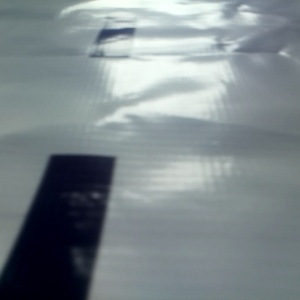bottom_left: (67, 109, 186, 203)
bottom_right: (161, 90, 300, 154)
top_left: (40, 70, 142, 127)
top_right: (136, 48, 214, 103)
